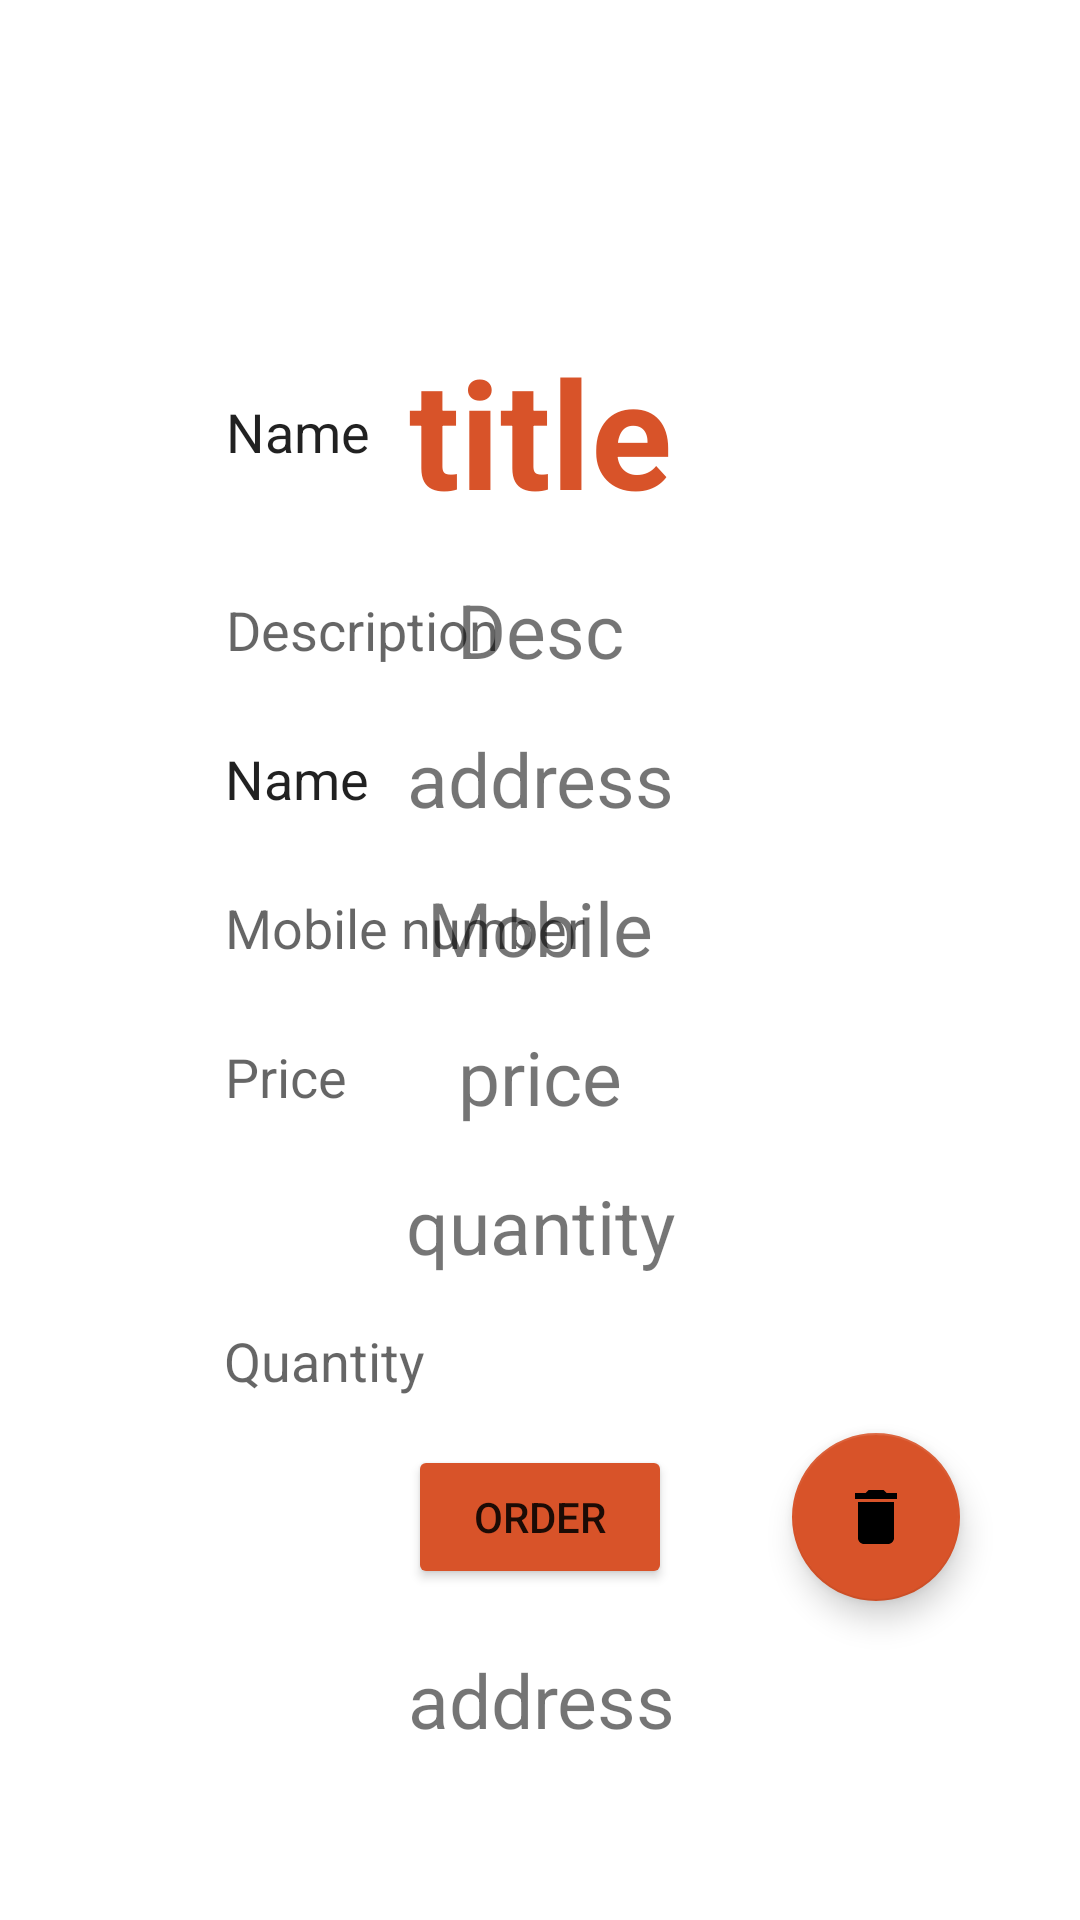

Icons on this 1080px x 1920px Android screen, each with its box as (x1, y1, x2, y2):
delete: (792, 1433, 960, 1601)
